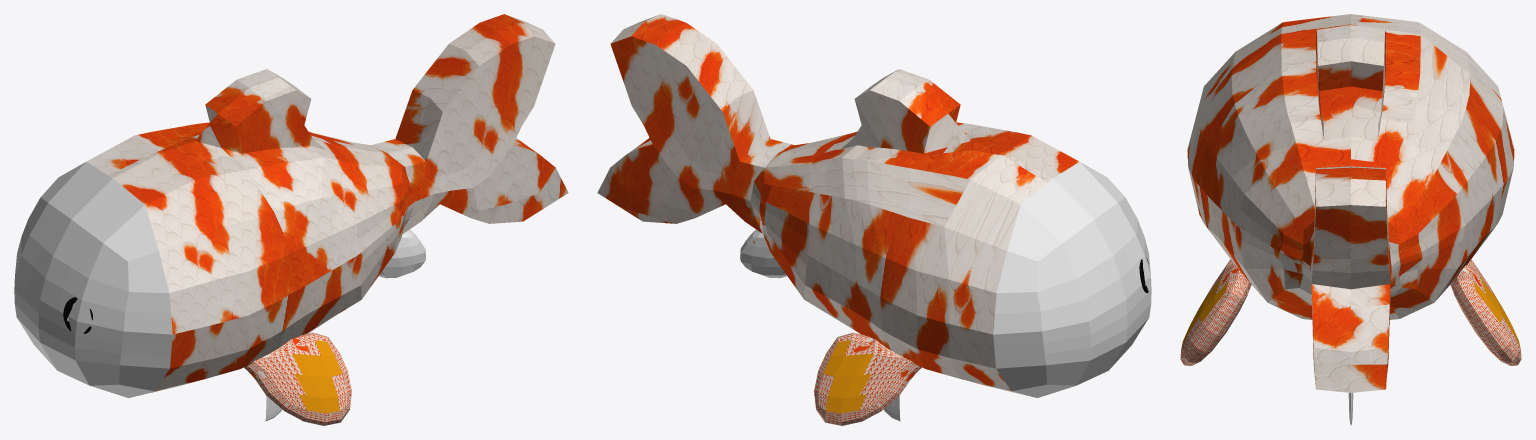
Rendered from 26.06.10-koi fish.glb.
The picture shows the model from 3 angles, left to right: view 1: azimuth 30°, elevation 25°; view 2: azimuth 150°, elevation 25°; view 3: azimuth 270°, elevation 25°; orthographic projection. The views are drawn at different scales.
Parts seen in each view (by area): view 1: Body, Finn R, Finn; view 2: Body, Finn R, Finn; view 3: Body, Finn R.
Part boxes in pixels (bbox=[...]): Body: bbox=[14, 14, 568, 397]; Finn R: bbox=[244, 332, 351, 425]; Finn: bbox=[379, 229, 425, 278]; Body: bbox=[597, 14, 1151, 397]; Finn R: bbox=[814, 332, 921, 425]; Finn: bbox=[740, 229, 786, 278]; Body: bbox=[1187, 14, 1514, 392]; Finn R: bbox=[1180, 259, 1521, 365].
Size of the model in its own units: 33.65 by 21.27 by 16.73.
6 materials, 2 textured.
